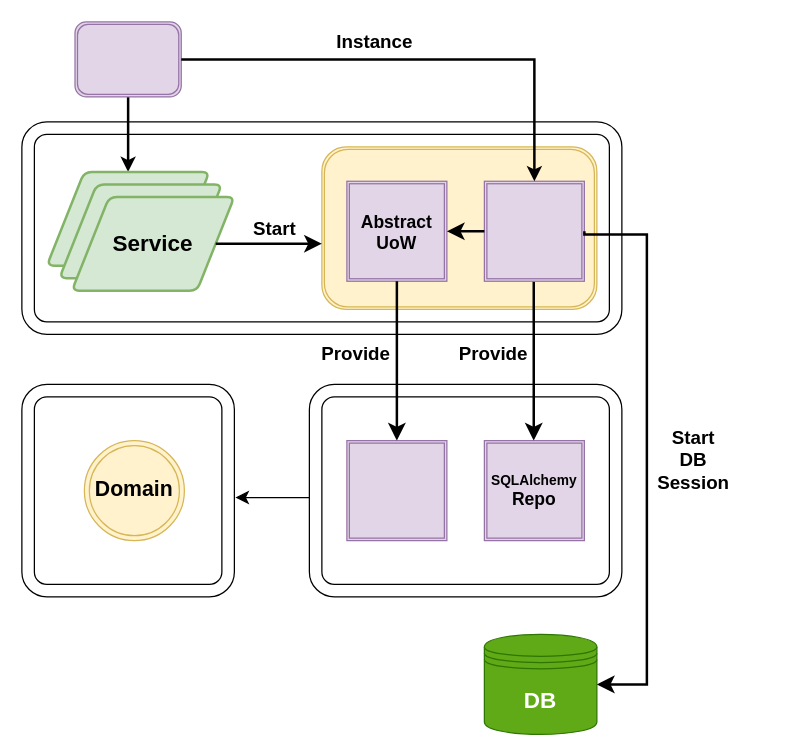
This 788x756 diagram has some shape labels left out. Each missing label, with the box of its shape:
Abstract Repo: (346, 439, 447, 541)
API: (74, 21, 181, 97)
SQLAlchemy UoW: (483, 180, 584, 281)
